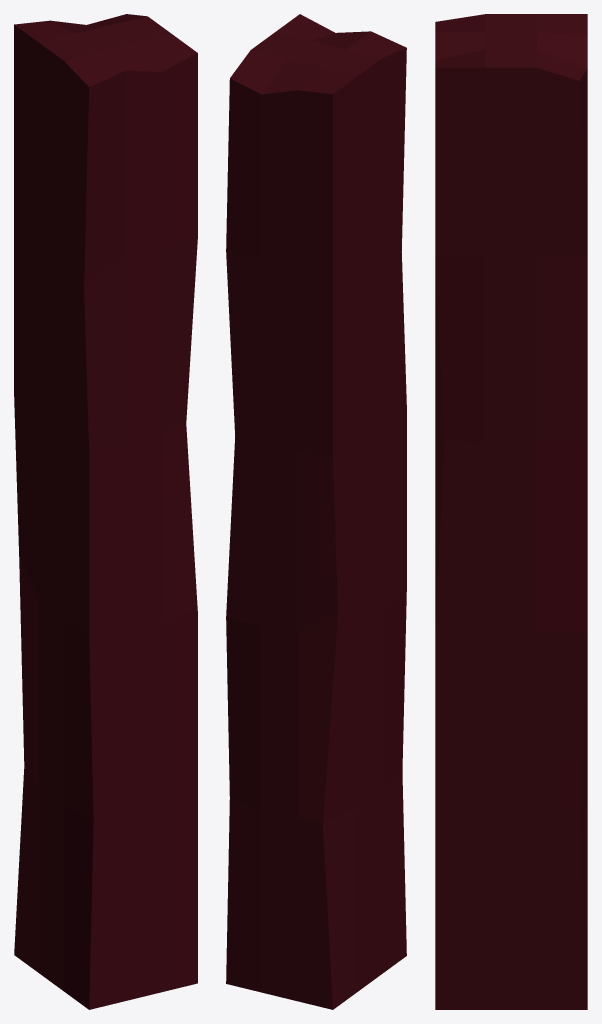
File: Madera2.fbx
The picture shows the model from 3 angles, left to right: view 1: azimuth 30°, elevation 25°; view 2: azimuth 150°, elevation 25°; view 3: azimuth 270°, elevation 25°; orthographic projection. The views are drawn at different scales.
Visible parts, largest first — view 1: PilarMadera.001; view 2: PilarMadera.001; view 3: PilarMadera.001.
Boxes of the visible parts, left/top/right/bottom form: PilarMadera.001: left=14, top=14, right=197, bottom=1009; PilarMadera.001: left=226, top=14, right=406, bottom=1009; PilarMadera.001: left=435, top=14, right=587, bottom=1009.
Bounding box in the file's own units: 61.56 × 504 × 73.67.
